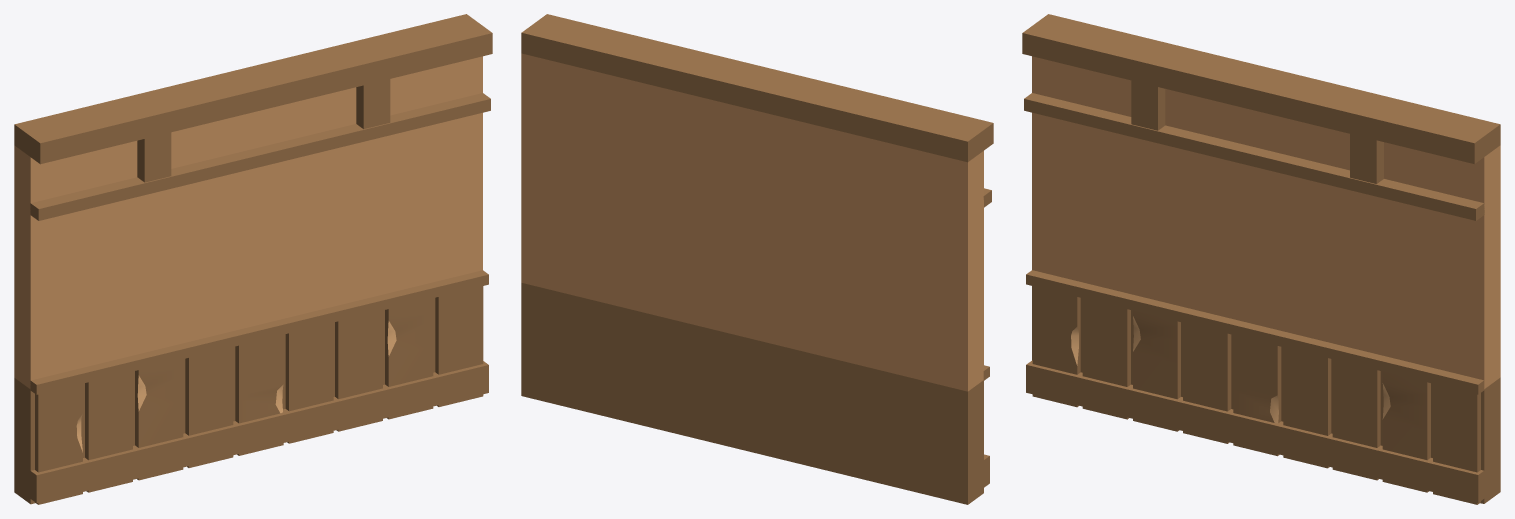
The model's file is Wall.glb.
The picture shows the model from 3 angles, left to right: view 1: azimuth 30°, elevation 25°; view 2: azimuth 150°, elevation 25°; view 3: azimuth 330°, elevation 25°; orthographic projection.
Visible parts, largest first — view 1: Wall_Normal; view 2: Wall_Normal; view 3: Wall_Normal.
Boxes of the visible parts, box(x1,y1,x2,y2) form: Wall_Normal: box(14, 14, 492, 504); Wall_Normal: box(521, 14, 993, 504); Wall_Normal: box(1022, 14, 1500, 504).
Bounding box in the file's own units: 4 × 3.11 × 0.3976.
1 material, 1 textured.
